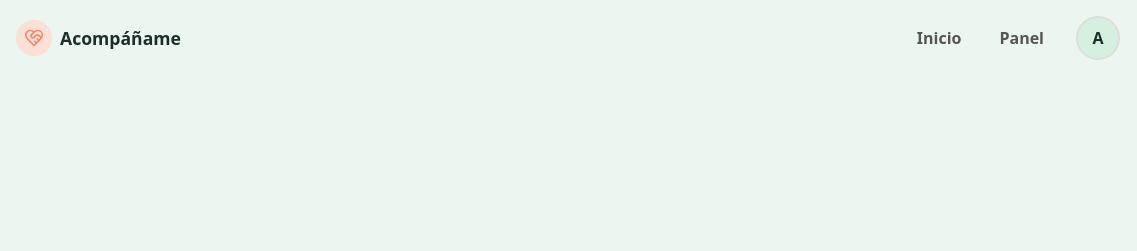
Test: NavBar del administrador › el menú dice que es una cuenta de administración
Step 1. Click the button with class "navbar__avatar" → [1098, 38], box x1=1076 y1=16 x2=1120 y2=60
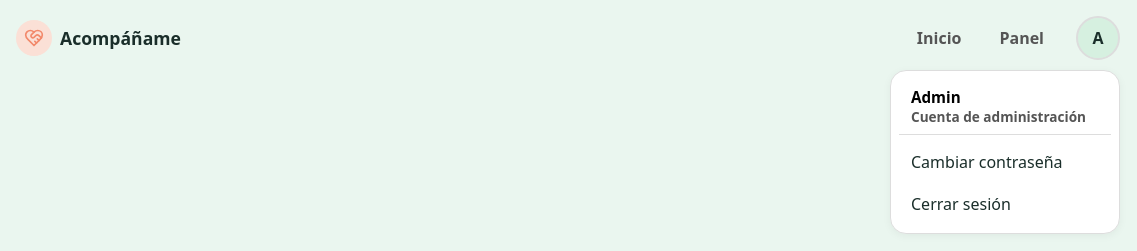
Result: the element with class "navbar__menu-header" shows "Admin" at x1=911 y1=87 x2=961 y2=107
Result: the text with class "navbar__menu-role" reads "Cuenta de administración" at x1=911 y1=107 x2=1086 y2=126
